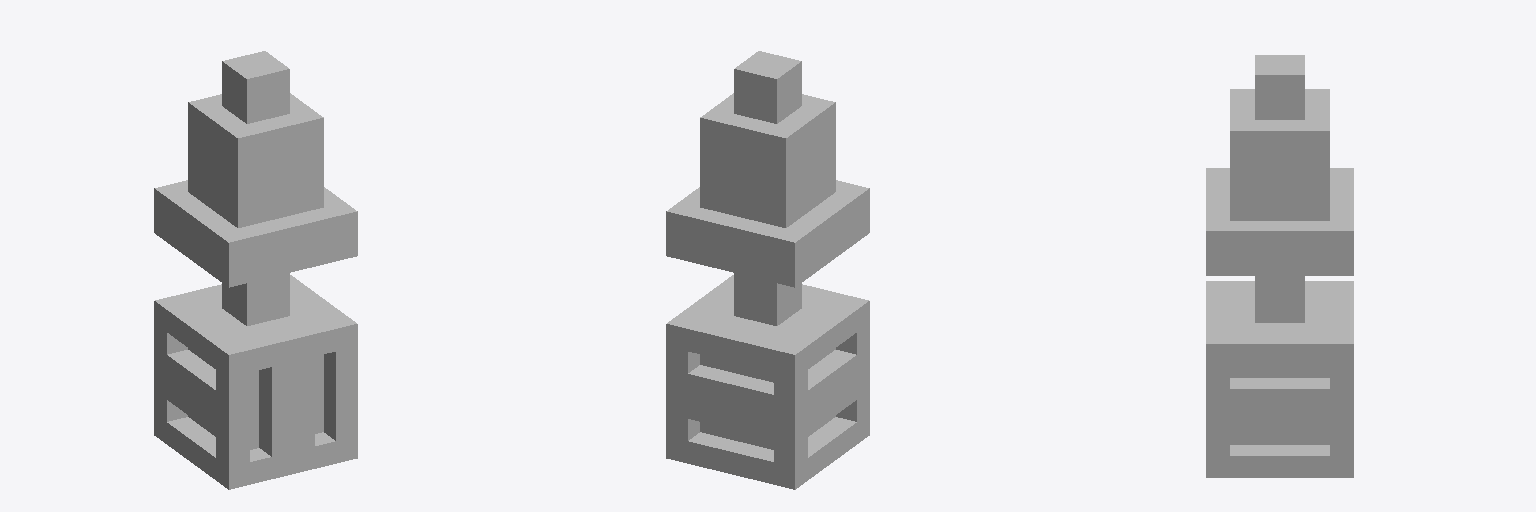
Rendered from Bush2.obj.
The picture shows the model from 3 angles: view 1: azimuth 30°, elevation 25°; view 2: azimuth 150°, elevation 25°; view 3: azimuth 270°, elevation 25°; orthographic projection.
Visible parts, largest first — view 1: object 1; view 2: object 1; view 3: object 1.
Part boxes in pixels (x1,y1,x2,y2): object 1: (154, 51, 357, 489); object 1: (666, 51, 869, 489); object 1: (1206, 55, 1353, 477).
Bounding box in the file's own units: 0.6 × 1.7 × 0.6.